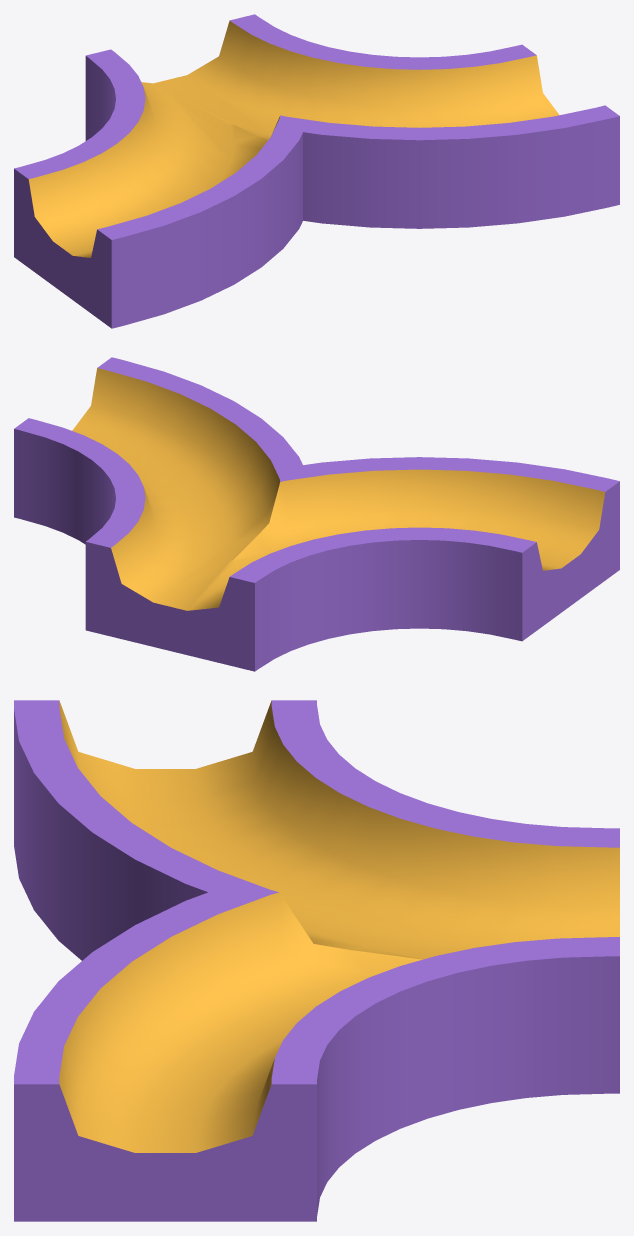
Rendered from split-double-sides-col.glb.
The picture shows the model from 3 angles, top to bottom: view 1: azimuth 30°, elevation 25°; view 2: azimuth 150°, elevation 25°; view 3: azimuth 270°, elevation 25°; orthographic projection. The views are drawn at different scales.
Visible parts, largest first — view 1: split-double-sides-col; view 2: split-double-sides-col; view 3: split-double-sides-col.
Part boxes in pixels (left/top/right/bottom): split-double-sides-col: left=14, top=14, right=619, bottom=328; split-double-sides-col: left=14, top=357, right=619, bottom=671; split-double-sides-col: left=14, top=700, right=619, bottom=1221.
Bounding box in the file's own units: 3 × 0.5 × 2.
1 material, 1 textured.
